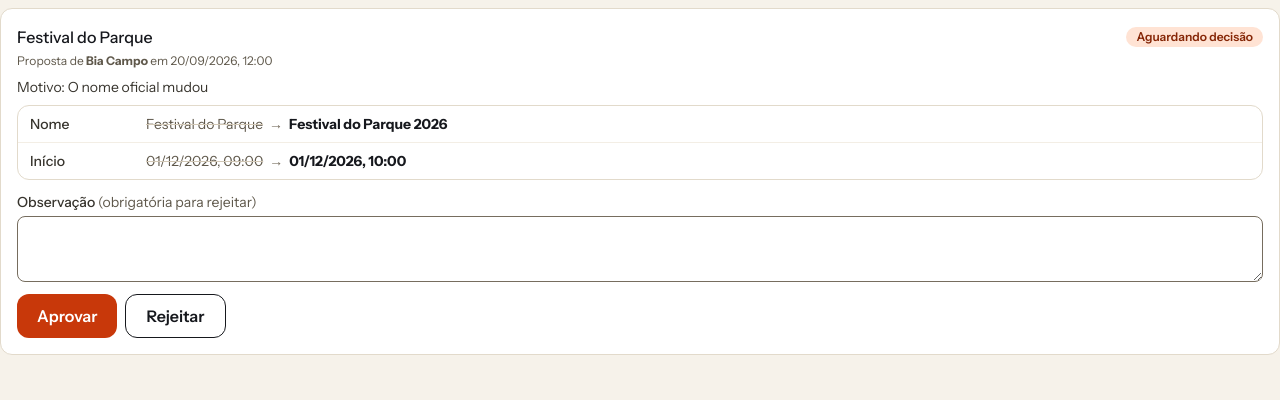
it: ApprovalInbox › aprovar › se o servidor recusar, a mensagem dele aparece NO CARTÃO e a lista não é atualizada
Click the button with aria-label "Aprovar a proposta". click: point(67, 316)
box: top-left (17, 294), bottom-right (118, 338)
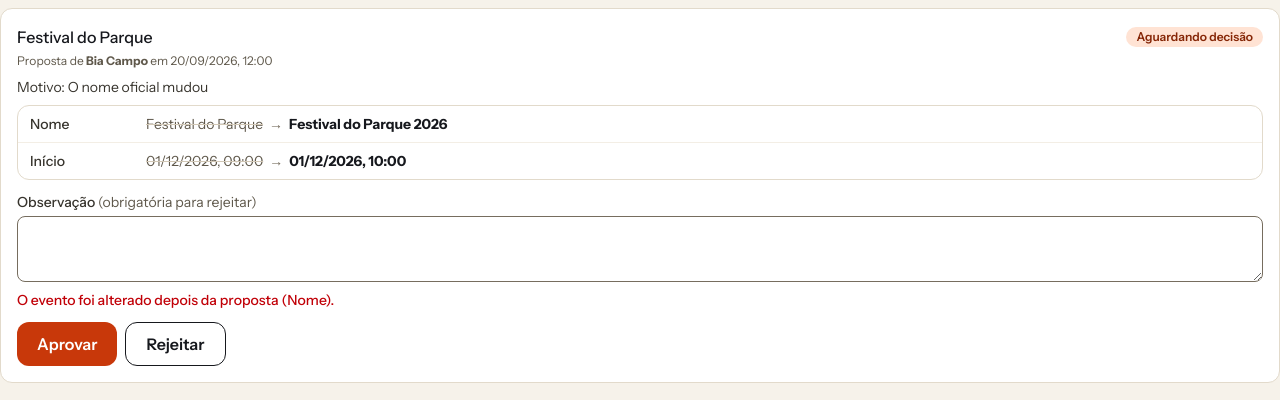
Now the message with test id "proposal-error" reads "O evento foi alterado depois da proposta (Nome).", box top-left (17, 291), bottom-right (334, 309)
